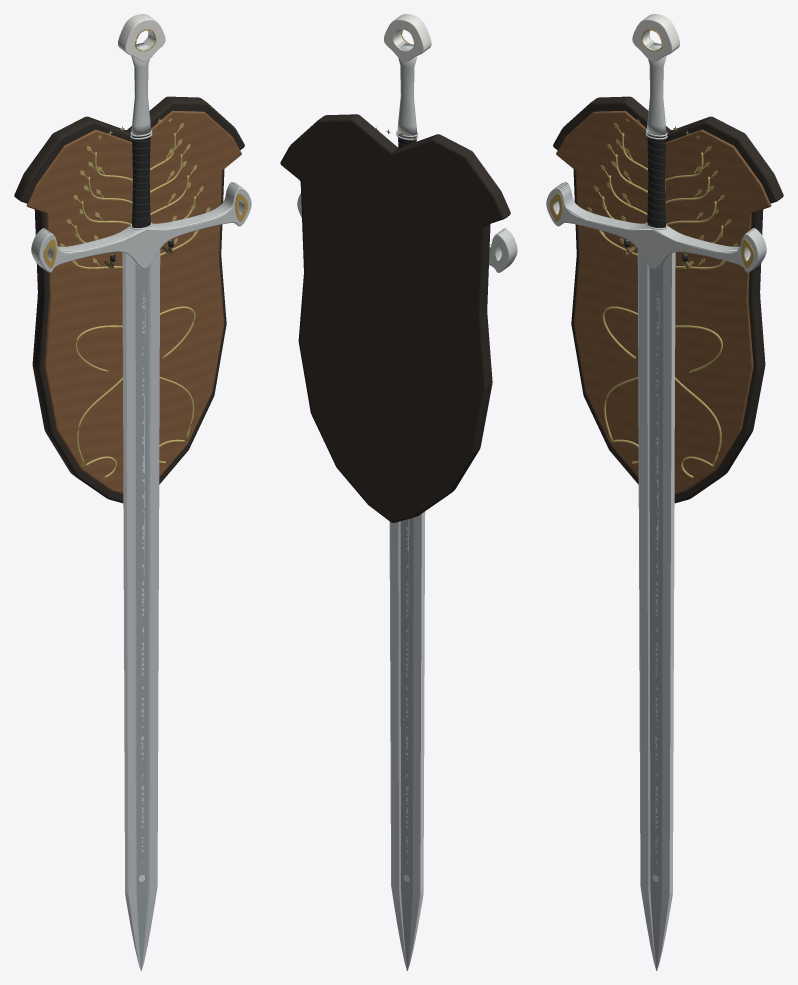
File: anduril.glb
3 renders of one model, left to right at view 1: azimuth 30°, elevation 25°; view 2: azimuth 150°, elevation 25°; view 3: azimuth 330°, elevation 25°, orthographic.
Parts seen in each view (by area): view 1: anduril | anduril Display walnut plaque, anduril | anduril Satin forged blade, anduril | anduril Display dark sculpted rim, anduril | anduril Silver hilt and pommel, anduril | anduril Display golden tree and vine inlay, anduril | anduril Hilt bright edge, anduril | anduril Black wrapped leather, anduril | anduril Blade inscription inlay, anduril | anduril Warm gilded hilt recesses; view 2: anduril | anduril Display dark sculpted rim, anduril | anduril Satin forged blade, anduril | anduril Silver hilt and pommel, anduril | anduril Hilt bright edge; view 3: anduril | anduril Display walnut plaque, anduril | anduril Satin forged blade, anduril | anduril Display dark sculpted rim, anduril | anduril Silver hilt and pommel, anduril | anduril Display golden tree and vine inlay, anduril | anduril Hilt bright edge, anduril | anduril Black wrapped leather, anduril | anduril Blade inscription inlay, anduril | anduril Warm gilded hilt recesses.
Boxes of the visible parts, x1,y1,x2,y2 form: anduril | anduril Display walnut plaque: (26, 110, 241, 493); anduril | anduril Satin forged blade: (122, 249, 160, 970); anduril | anduril Display dark sculpted rim: (14, 96, 244, 503); anduril | anduril Silver hilt and pommel: (31, 42, 251, 272); anduril | anduril Display golden tree and vine inlay: (60, 117, 210, 478); anduril | anduril Hilt bright edge: (60, 14, 231, 252); anduril | anduril Black wrapped leather: (132, 132, 150, 227); anduril | anduril Blade inscription inlay: (137, 267, 145, 881); anduril | anduril Warm gilded hilt recesses: (43, 29, 248, 268); anduril | anduril Display dark sculpted rim: (280, 114, 510, 522); anduril | anduril Satin forged blade: (389, 511, 425, 970); anduril | anduril Silver hilt and pommel: (297, 43, 517, 272); anduril | anduril Hilt bright edge: (384, 14, 491, 245); anduril | anduril Display walnut plaque: (556, 110, 771, 493); anduril | anduril Satin forged blade: (637, 249, 675, 970); anduril | anduril Display dark sculpted rim: (553, 96, 783, 503); anduril | anduril Silver hilt and pommel: (546, 42, 766, 272); anduril | anduril Display golden tree and vine inlay: (587, 117, 737, 478); anduril | anduril Hilt bright edge: (566, 14, 737, 252); anduril | anduril Black wrapped leather: (647, 132, 665, 227); anduril | anduril Blade inscription inlay: (652, 267, 660, 881); anduril | anduril Warm gilded hilt recesses: (549, 29, 754, 268).
Size of the model in its own units: 0.3315 by 1.34 by 0.0527.
Materials: 14 (1 with a texture image).
